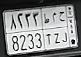J: (59, 11, 68, 44)
T: (43, 12, 52, 45)
